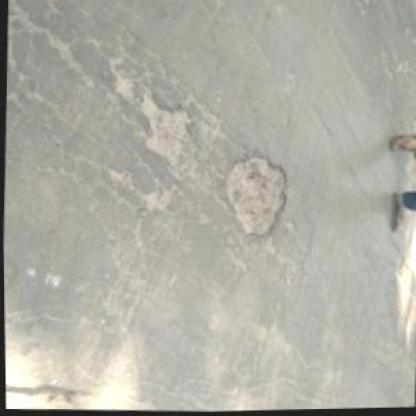pothole: (220, 150, 288, 238), (139, 87, 194, 168)
